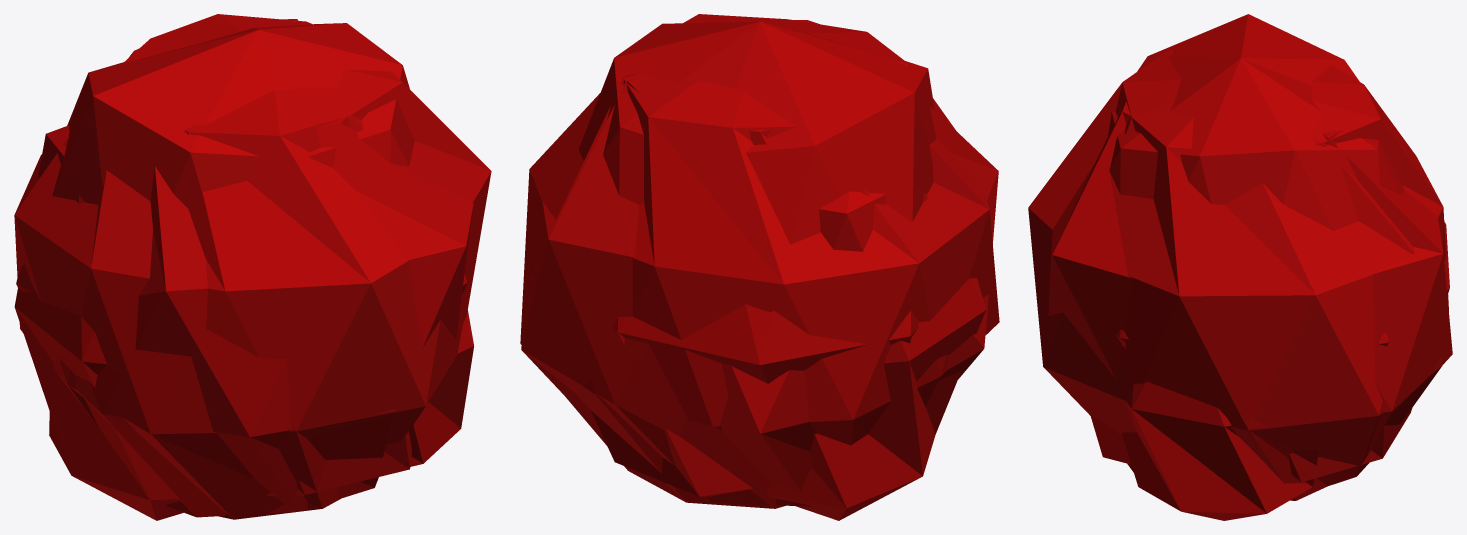
Rendered from boulder.glb.
3 views of the same model, side by side, from view 1: azimuth 30°, elevation 25°; view 2: azimuth 150°, elevation 25°; view 3: azimuth 270°, elevation 25° (orthographic). The views are drawn at different scales.
Visible parts, largest first — view 1: v0, v1, v2, v3; view 2: v0, v2, v1, v3; view 3: v0, v2, v1, v3.
Boxes of the visible parts, left/top/right/bottom form: v0: left=14, top=14, right=491, bottom=519; v1: left=75, top=19, right=473, bottom=517; v2: left=16, top=23, right=467, bottom=495; v3: left=14, top=125, right=473, bottom=520; v0: left=520, top=14, right=999, bottom=508; v2: left=529, top=21, right=936, bottom=496; v1: left=521, top=20, right=998, bottom=506; v3: left=766, top=191, right=986, bottom=520; v0: left=1028, top=50, right=1448, bottom=485; v2: left=1090, top=14, right=1449, bottom=482; v1: left=1048, top=76, right=1452, bottom=500; v3: left=1121, top=381, right=1319, bottom=520.
Bounding box in the file's own units: 1.78 × 2 × 1.78.
